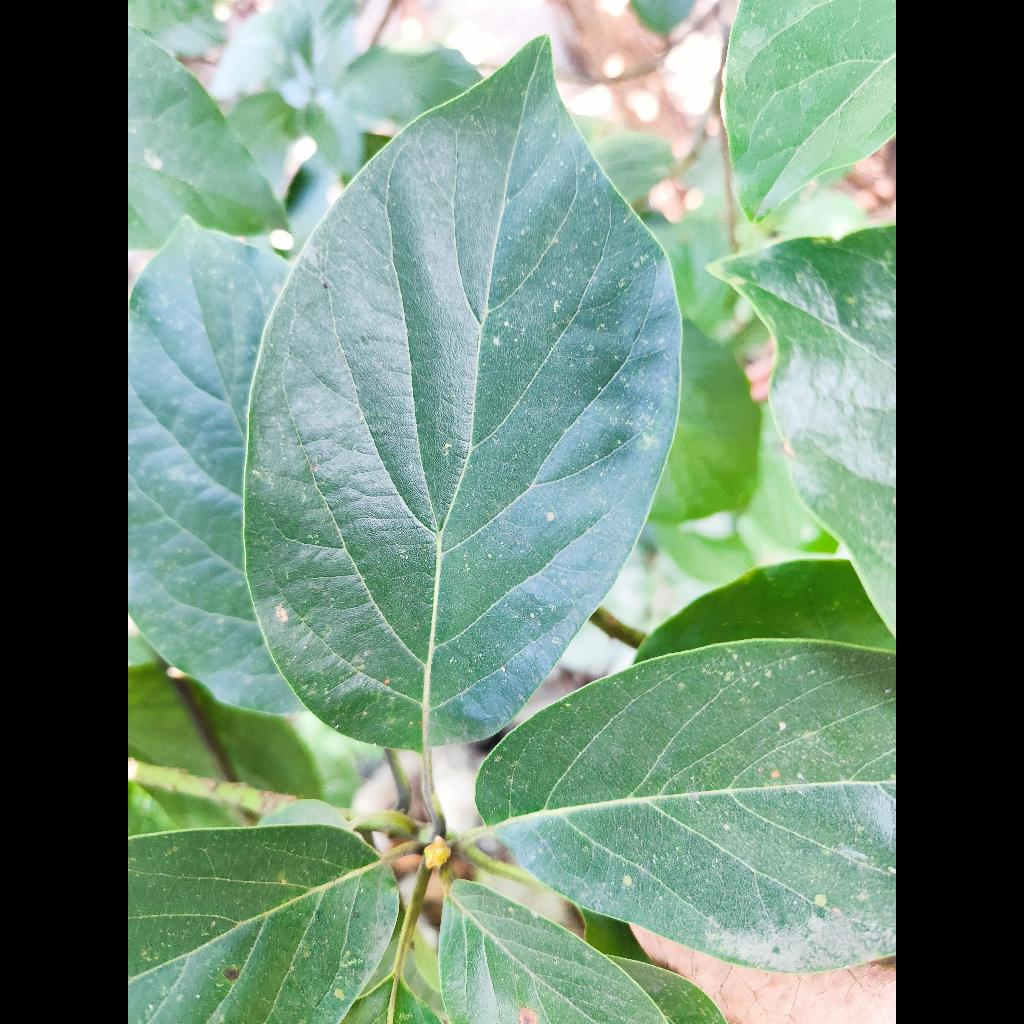Anthracnose: (244, 37, 680, 751)
